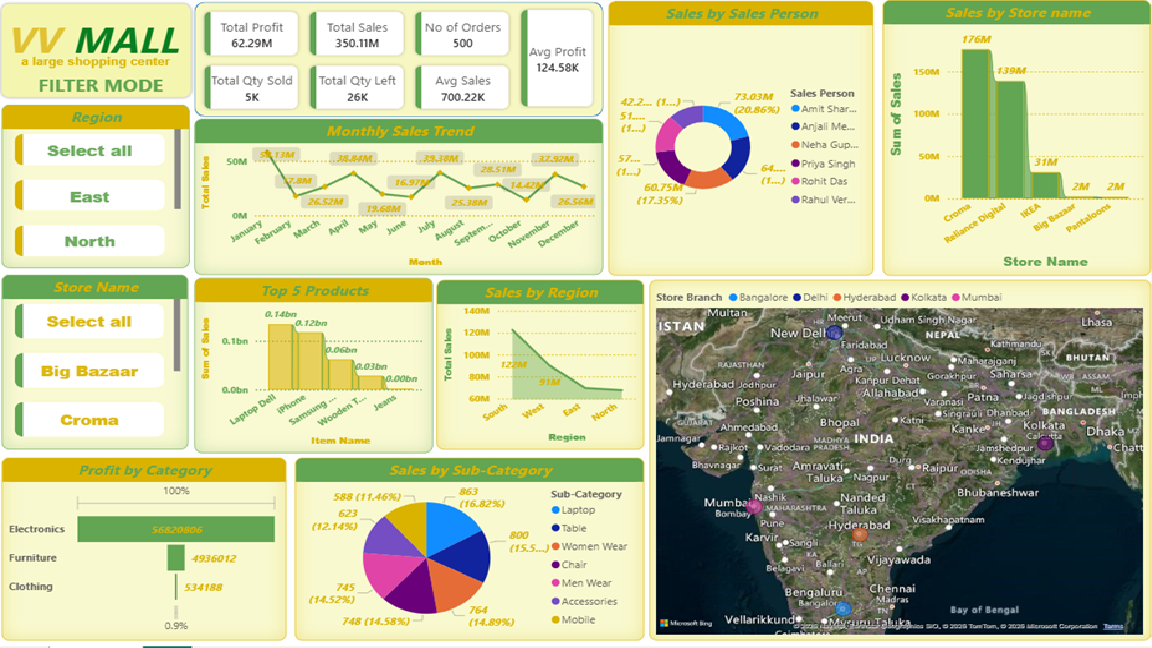

The dashboard page shown, as its layout file describes it:
{"tool":"powerbi","page":{"name":"Page 1","canvas":[1400,900],"ordinal":0},"visuals":[{"type":"shape","box":[0,7.5,238.3,137.2],"z":0},{"type":"textbox","box":[0,22.8,227.9,77.7],"z":1000},{"type":"textbox","box":[4,76.4,227.9,30.8],"z":2000},{"type":"shape","box":[238.3,9,496.1,158.3],"z":3000},{"type":"cardVisual","fields":{"Data":["Worksheet.Total Profit","Worksheet.Total Qty Sold","Worksheet.Total Sales","Worksheet.Total Qty Left","Worksheet.No of Orders","Worksheet.Avg Sales"]},"box":[238.3,10.6,395.1,159.9],"z":4000},{"type":"cardVisual","fields":{"Data":["Worksheet.Avg Profit"]},"box":[622.8,7.5,111.6,158.3],"z":5000},{"type":"columnChart","title":"Sales by Store name","fields":{"Y":["Sum(Worksheet.Sales)"],"Category":["Worksheet.Store Name"]},"box":[1073.7,6,325.7,381.5],"z":6000},{"type":"stackedAreaChart","title":"Sales by Region","fields":{"Category":["Worksheet.Region"],"Y":["Worksheet.Total Sales"]},"box":[532.3,393.6,251.8,235.3],"z":7000},{"type":"lineChart","title":"Monthly Sales Trend","fields":{"Y":["Worksheet.Total Sales"],"Category":["Worksheet.Order Date.Variation.Date Hierarchy.Month"]},"box":[238.3,170.4,496.1,215.7],"z":8000},{"type":"columnChart","title":"Top 5 Products","fields":{"Category":["Worksheet.Item Name"],"Y":["Sum(Worksheet.Sales)"]},"box":[238.3,390.6,289.5,242.8],"z":9000},{"type":"funnel","title":"Profit by Category","fields":{"Category":["Worksheet.Category"],"Y":["Worksheet.Total Profit"]},"box":[4.5,639.4,345.3,253.4],"z":10000},{"type":"advancedSlicerVisual","fields":{"Values":["Worksheet.Region"]},"box":[4.5,150.8,227.7,226.2],"z":11000},{"type":"textbox","box":[10.6,102.5,227.7,42.2],"z":12000},{"type":"advancedSlicerVisual","fields":{"Values":["Worksheet.Store Name"]},"box":[4.5,386.1,226.2,242.8],"z":13000},{"type":"pieChart","title":"Sales by Sub-Category","fields":{"Category":["Worksheet.Sub-Category"],"Y":["Worksheet.Total Qty Sold"]},"box":[360.4,639.4,423.8,253.4],"z":14000},{"type":"donutChart","title":"Sales by Sales Person","fields":{"Category":["Worksheet.Sales Person"],"Y":["Worksheet.Total Sales"]},"box":[740.5,7.5,322.7,380],"z":15000},{"type":"map","fields":{"Category":["Worksheet.Store Branch"],"Series":["Worksheet.Store Branch"]},"box":[790.2,393.6,609.3,499.2],"z":16000}]}

Visuals, with their boxes on the page's 1400x900 design canvas (x1, y1, x2, y2). These are canvas units, not pixel positions in the 1152x648 screenshot, which may show the page scaled, cropped or inside an application window:
shape: BBox(0, 8, 238, 145)
textbox: BBox(0, 23, 228, 100)
textbox: BBox(4, 76, 232, 107)
shape: BBox(238, 9, 734, 167)
cardVisual - Worksheet.Total Profit x Worksheet.Total Qty Sold: BBox(238, 11, 633, 170)
cardVisual - Worksheet.Avg Profit: BBox(623, 8, 734, 166)
"Sales by Store name" columnChart: BBox(1074, 6, 1399, 388)
"Sales by Region" stackedAreaChart: BBox(532, 394, 784, 629)
"Monthly Sales Trend" lineChart: BBox(238, 170, 734, 386)
"Top 5 Products" columnChart: BBox(238, 391, 528, 633)
"Profit by Category" funnel: BBox(4, 639, 350, 893)
advancedSlicerVisual - Worksheet.Region: BBox(4, 151, 232, 377)
textbox: BBox(11, 102, 238, 145)
advancedSlicerVisual - Worksheet.Store Name: BBox(4, 386, 231, 629)
"Sales by Sub-Category" pieChart: BBox(360, 639, 784, 893)
"Sales by Sales Person" donutChart: BBox(740, 8, 1063, 388)
map - Worksheet.Store Branch x Worksheet.Store Branch: BBox(790, 394, 1400, 893)
